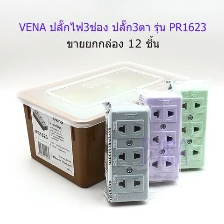plastic_box: (14, 57, 193, 192)
three_eye_plug: (102, 103, 153, 205), (137, 87, 183, 186), (164, 81, 207, 172)
